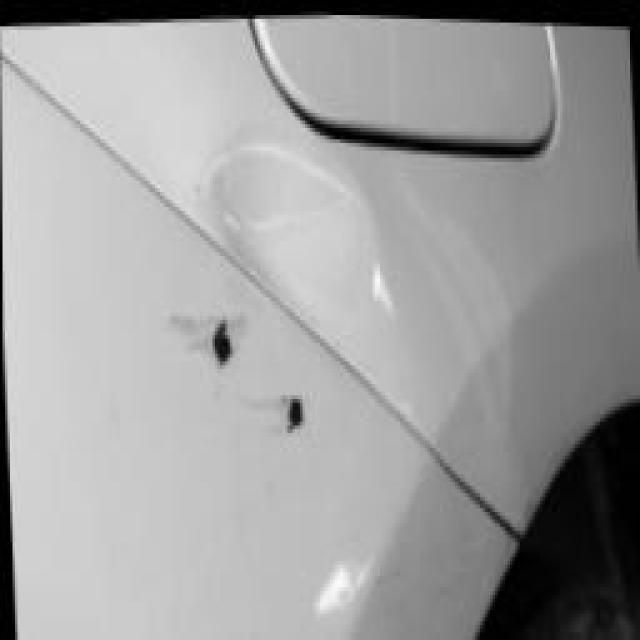Door: (156, 240, 360, 480)
Fender: (121, 78, 521, 466)
